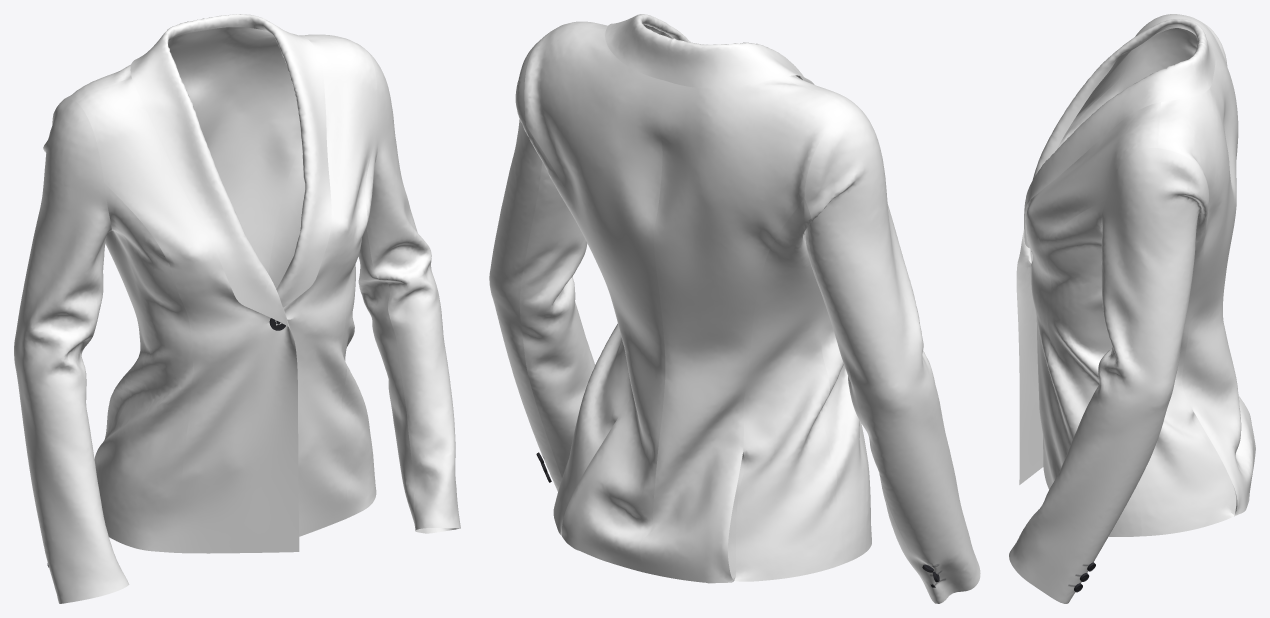
The model's file is women-jacket_gltf_thin.gltf.
3 views of the same model, side by side, from view 1: azimuth 30°, elevation 25°; view 2: azimuth 150°, elevation 25°; view 3: azimuth 270°, elevation 25° (orthographic). The views are drawn at different scales.
Visible parts, largest first — view 1: Cloth; view 2: Cloth; view 3: Cloth.
Part boxes in pixels (x1=…): Cloth: x1=14, y1=14, x2=460, y2=603; Cloth: x1=489, y1=14, x2=980, y2=603; Cloth: x1=1009, y1=14, x2=1255, y2=603.
Size of the model in its own units: 53.12 by 64.2 by 29.77.
4 materials, 4 textured.
